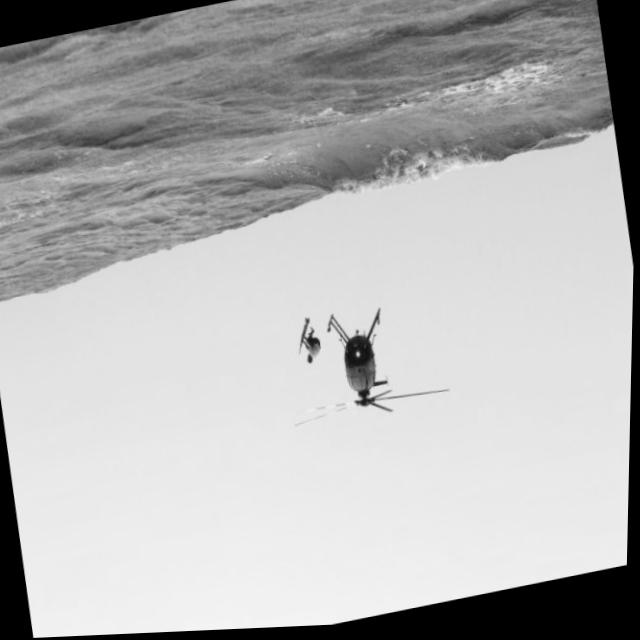helikopter: (317, 279, 444, 443)
